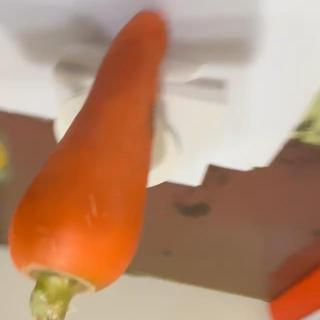carrot: (7, 10, 169, 320)
